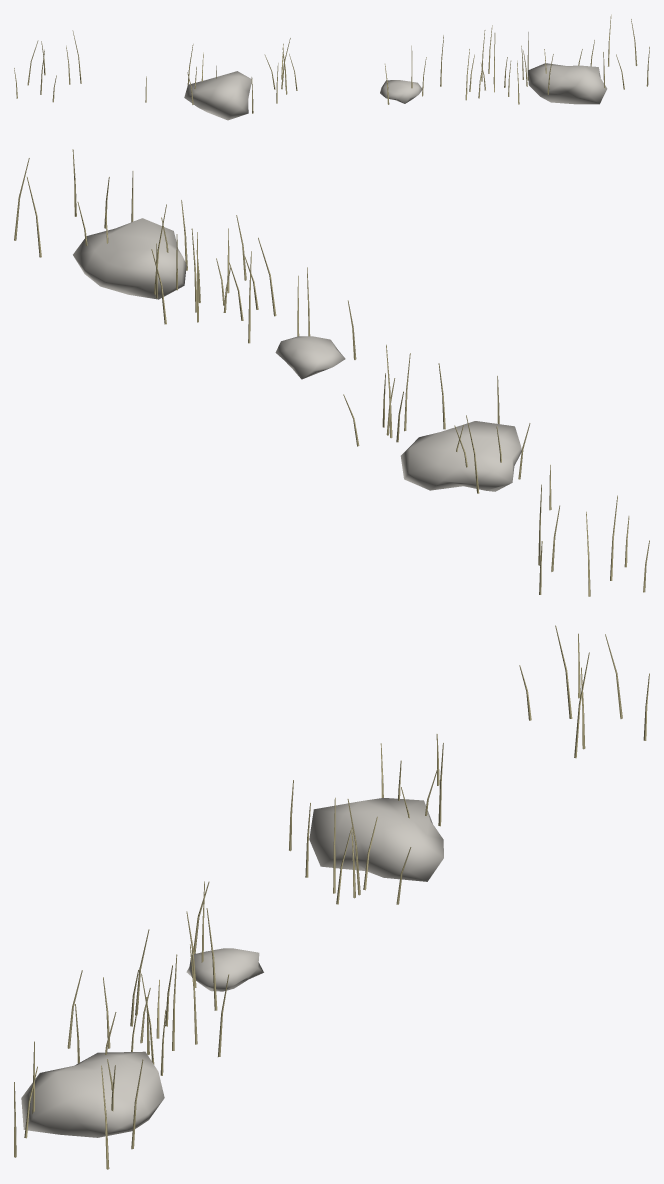
The picture shows the model from 3 angles, top to bottom: view 1: azimuth 30°, elevation 25°; view 2: azimuth 150°, elevation 25°; view 3: azimuth 270°, elevation 25°; orthographic projection. The views are drawn at different scales.
Visible parts, largest first — view 1: p1_m2; view 2: p1_m2; view 3: p1_m2.
Boxes of the visible parts, x1,y1,x2,y2 form: p1_m2: (14, 14, 649, 120); p1_m2: (14, 149, 649, 596); p1_m2: (14, 625, 649, 1169).
Size of the model in its own units: 17.26 by 2.2 by 9.76.
